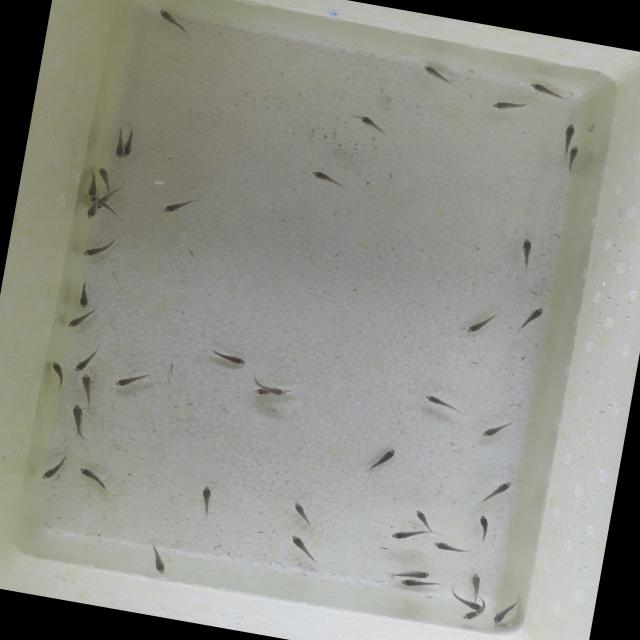fingerling: (278, 530, 326, 566), (152, 7, 196, 39), (191, 478, 223, 514), (352, 112, 393, 140), (416, 63, 458, 89), (522, 79, 568, 102), (366, 441, 398, 474), (483, 477, 519, 506), (517, 299, 548, 332), (62, 401, 92, 435), (148, 538, 174, 576), (486, 94, 533, 114), (474, 417, 510, 443), (512, 235, 537, 272), (288, 499, 322, 524), (38, 454, 66, 484), (76, 464, 108, 490), (460, 312, 492, 338), (304, 168, 342, 188), (489, 600, 516, 628), (384, 526, 426, 544), (46, 358, 72, 386), (417, 392, 461, 408), (112, 372, 146, 392), (78, 370, 99, 402), (90, 166, 118, 190), (472, 512, 495, 541), (81, 238, 111, 260), (390, 564, 430, 580), (72, 282, 94, 310), (160, 196, 188, 218), (450, 595, 486, 612), (431, 540, 469, 556), (211, 351, 251, 366), (121, 132, 141, 162), (409, 505, 436, 527), (398, 578, 434, 593), (566, 142, 582, 173), (67, 310, 89, 332), (112, 133, 128, 161), (74, 352, 92, 376), (468, 574, 487, 596), (85, 198, 102, 222), (82, 176, 99, 200), (562, 122, 574, 154), (262, 386, 290, 398), (460, 610, 484, 622)
